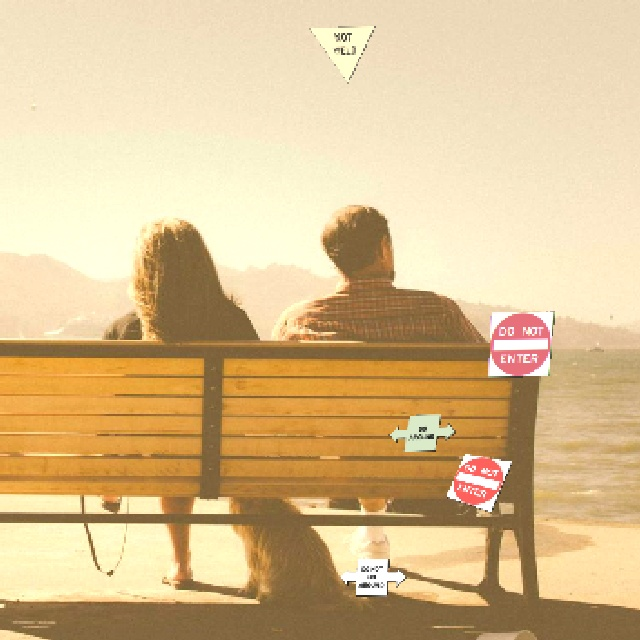DO_NOT_ENTER: (486, 310, 553, 376), (444, 452, 511, 511)
DO_NOT_GO_AROUND: (338, 557, 405, 595)
GO_AROUND: (387, 412, 454, 451)
NOT_YIELD: (307, 24, 374, 82)
